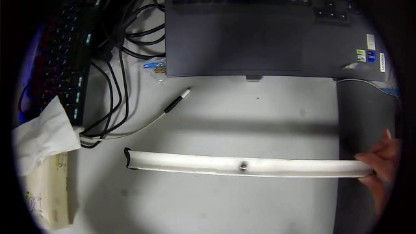gangzhu: (235, 161, 250, 171)
